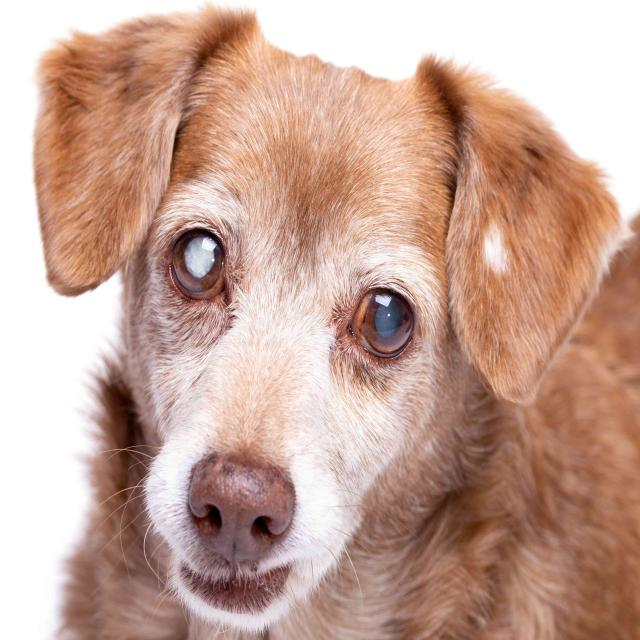eye: (342, 271, 421, 368), (162, 221, 236, 311)
